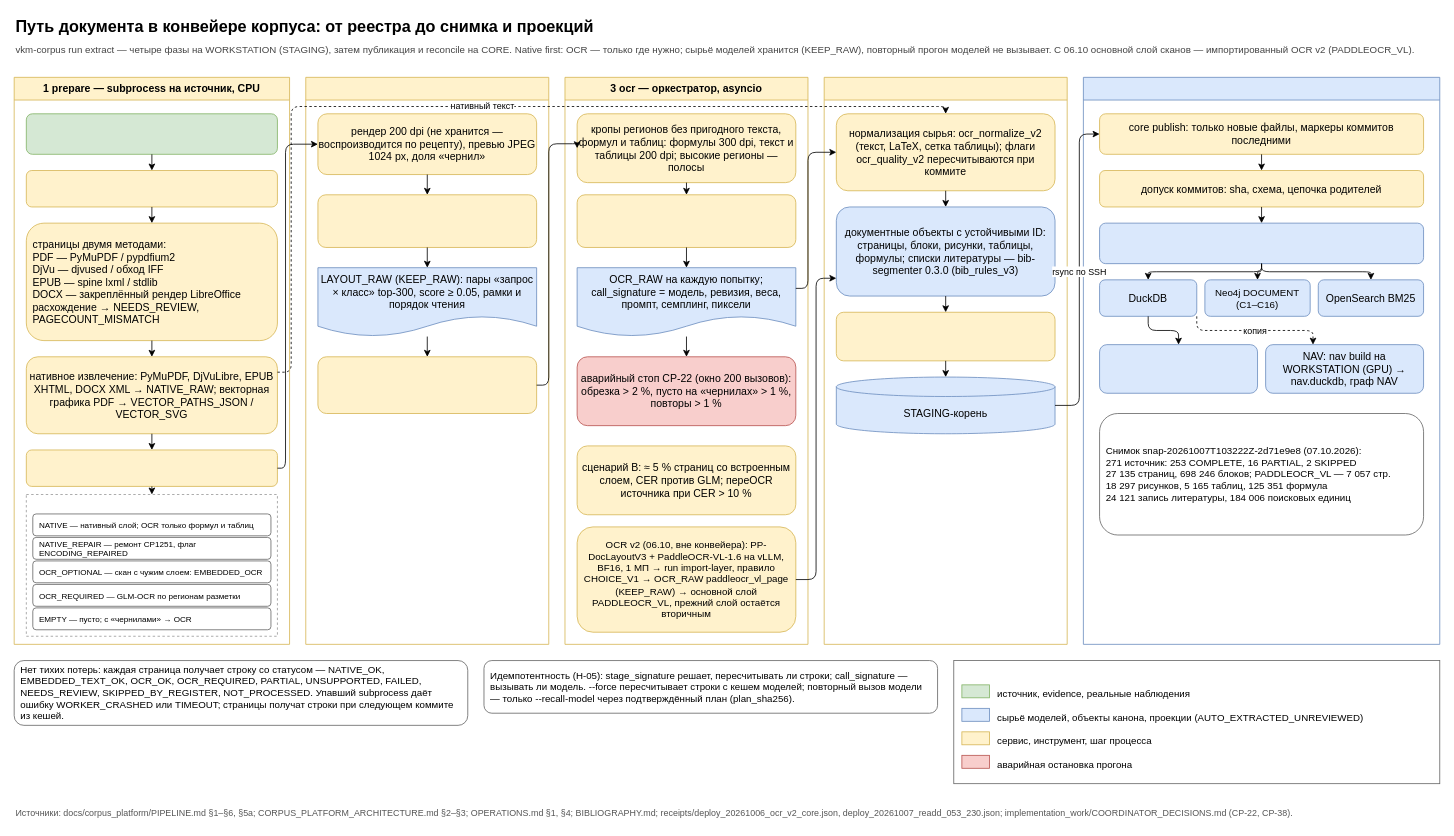
This 1454x836 diagram has some shape labels left out. The shapes that lost their labels are listed below. From the top down, each one's box as (x1, y1, x2, y2) in pixels, then its label:
(26, 113, 277, 154): реестр → файл, sha256 против SOURCE_REGISTER
(26, 170, 277, 207): формат по сигнатуре (PDF, DjVu, EPUB, DOCX)
(317, 194, 537, 247): PP-DocLayoutV3 (transformers, GPU, fp32, офлайн): ≈ 70 мс на страницу
(576, 194, 796, 247): GLM-OCR через vLLM: Text / Formula / Table Recognition; temperature 0
(1099, 222, 1424, 264): снимок + валидатор: CURRENT сдвигается только при PASS
(836, 311, 1055, 361): коммит источника (Parquet) под lease; тот же контент — no-op
(305, 77, 549, 644): 2 visual — один subprocess с GPU
(823, 77, 1067, 644): 4 commit — subprocess на источник, CPU
(1099, 344, 1258, 393): векторы: lab_refresh (dense + late)
(1083, 77, 1440, 644): CORE: публикация и reconcile
(317, 356, 537, 414): регионы и ID объектов — правило regions_v1 из сохранённого LAYOUT_RAW, без GPU
(26, 449, 277, 486): класс страницы и маршрут (правило c1)
(26, 494, 277, 636): маршруты
(953, 660, 1440, 784): Легенда
